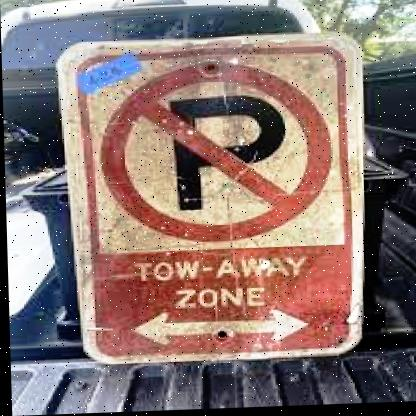No parking: (96, 55, 339, 245)
